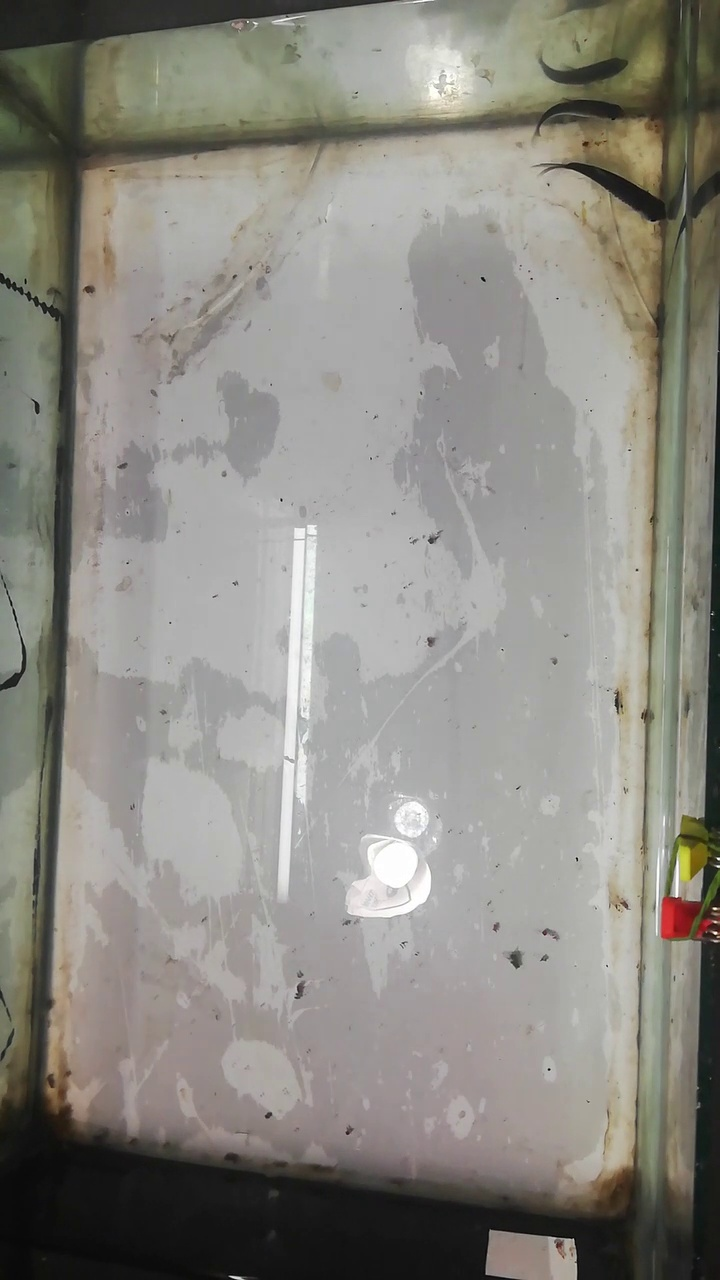fish1: (535, 160, 667, 224)
fish2: (531, 100, 626, 131)
